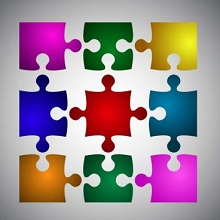puzzle piece: (71, 74, 149, 152), (16, 73, 69, 154), (13, 14, 83, 74), (148, 74, 199, 153), (17, 152, 82, 206), (134, 20, 200, 71), (135, 153, 200, 204), (79, 17, 135, 72), (82, 153, 135, 206)
